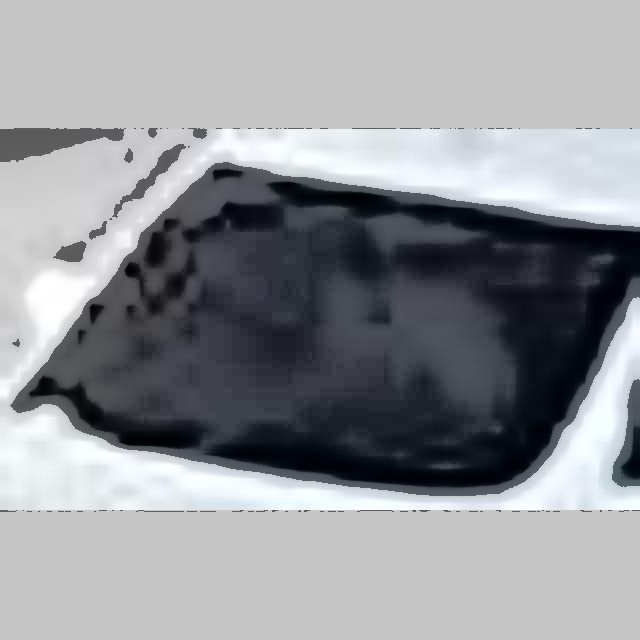pakai: (283, 215, 505, 424)
